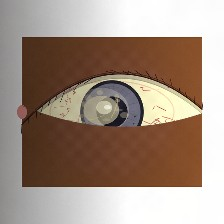corneal_ulcer: (72, 87, 130, 134)
